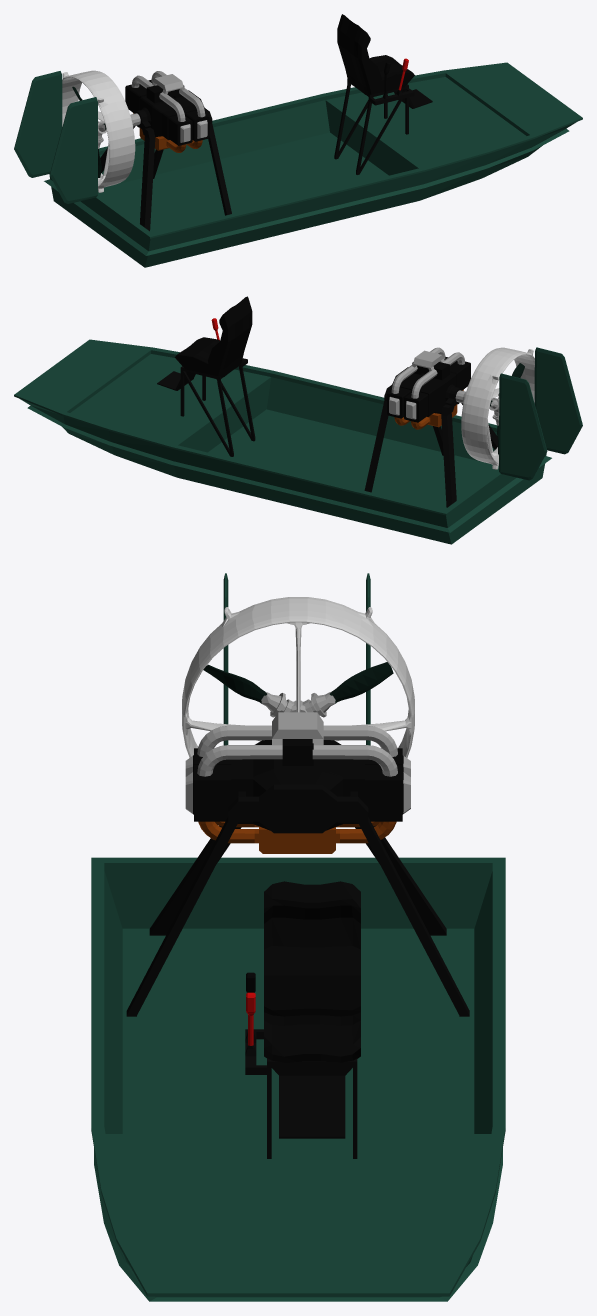
The model's file is airboat.obj.
The picture shows the model from 3 angles, top to bottom: view 1: azimuth 30°, elevation 25°; view 2: azimuth 150°, elevation 25°; view 3: azimuth 270°, elevation 25°; orthographic projection. The views are drawn at different scales.
Visible parts, largest first — view 1: boat, rudder, shroud, seat, emounts, stand, engine, intakes, cylinders, exhaust, heads; view 2: boat, rudder, shroud, seat, emounts, stand, engine, intakes, cylinders, exhaust, heads; view 3: boat, seat, emounts, shroud, stand, intakes, engine, cylinders, exhaust, prop, rudder, hub.
Part boxes in pixels (x1=…): boat: x1=44, y1=62, x2=582, y2=267; rudder: x1=14, y1=71, x2=97, y2=203; shroud: x1=62, y1=70, x2=135, y2=192; seat: x1=337, y1=14, x2=414, y2=95; emounts: x1=100, y1=90, x2=231, y2=231; stand: x1=334, y1=78, x2=432, y2=174; engine: x1=134, y1=85, x2=196, y2=139; intakes: x1=131, y1=71, x2=205, y2=121; cylinders: x1=125, y1=79, x2=209, y2=145; exhaust: x1=133, y1=113, x2=202, y2=152; heads: x1=180, y1=120, x2=207, y2=142; boat: x1=14, y1=339, x2=551, y2=544; rudder: x1=499, y1=347, x2=582, y2=480; shroud: x1=461, y1=347, x2=534, y2=469; seat: x1=175, y1=296, x2=252, y2=377; emounts: x1=364, y1=367, x2=498, y2=507; stand: x1=157, y1=358, x2=255, y2=456; engine: x1=399, y1=362, x2=462, y2=416; intakes: x1=391, y1=347, x2=464, y2=398; cylinders: x1=387, y1=356, x2=470, y2=422; exhaust: x1=394, y1=389, x2=463, y2=429; heads: x1=389, y1=397, x2=416, y2=419; boat: x1=91, y1=857, x2=505, y2=1301; seat: x1=264, y1=881, x2=360, y2=1062; emounts: x1=126, y1=784, x2=469, y2=1016; shroud: x1=182, y1=597, x2=414, y2=757; stand: x1=245, y1=1029, x2=357, y2=1158; intakes: x1=197, y1=712, x2=397, y2=776; engine: x1=230, y1=739, x2=366, y2=830; cylinders: x1=193, y1=748, x2=403, y2=821; exhaust: x1=198, y1=821, x2=396, y2=853; prop: x1=203, y1=662, x2=393, y2=703; rudder: x1=223, y1=573, x2=370, y2=745; hub: x1=261, y1=692, x2=335, y2=717.
Bounding box in the file's own units: 16.23 × 4.8 × 5.68.
